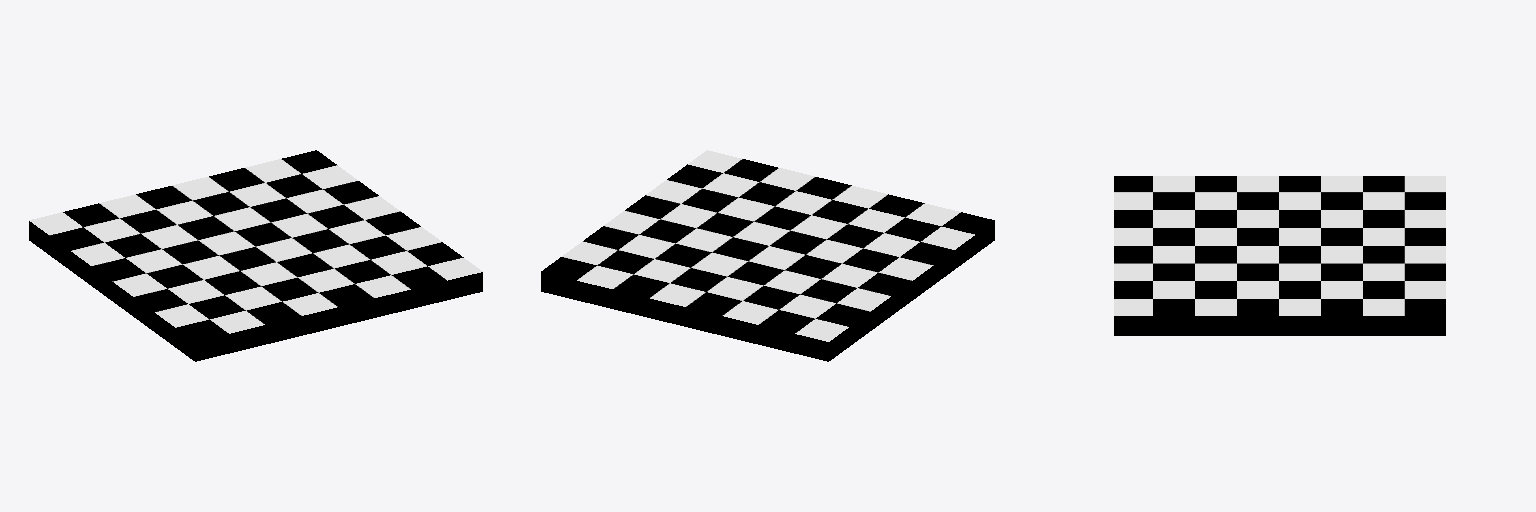
The picture shows the model from 3 angles: view 1: azimuth 30°, elevation 25°; view 2: azimuth 150°, elevation 25°; view 3: azimuth 270°, elevation 25°; orthographic projection.
Parts seen in each view (by area): view 1: Cube.001; view 2: Cube.001; view 3: Cube.001.
Part boxes in pixels (bbox=[...]): Cube.001: bbox=[29, 150, 482, 361]; Cube.001: bbox=[541, 150, 994, 361]; Cube.001: bbox=[1114, 176, 1445, 335].
Size of the model in its own units: 32.46 by 2.12 by 32.46.
1 materials, 1 textured.